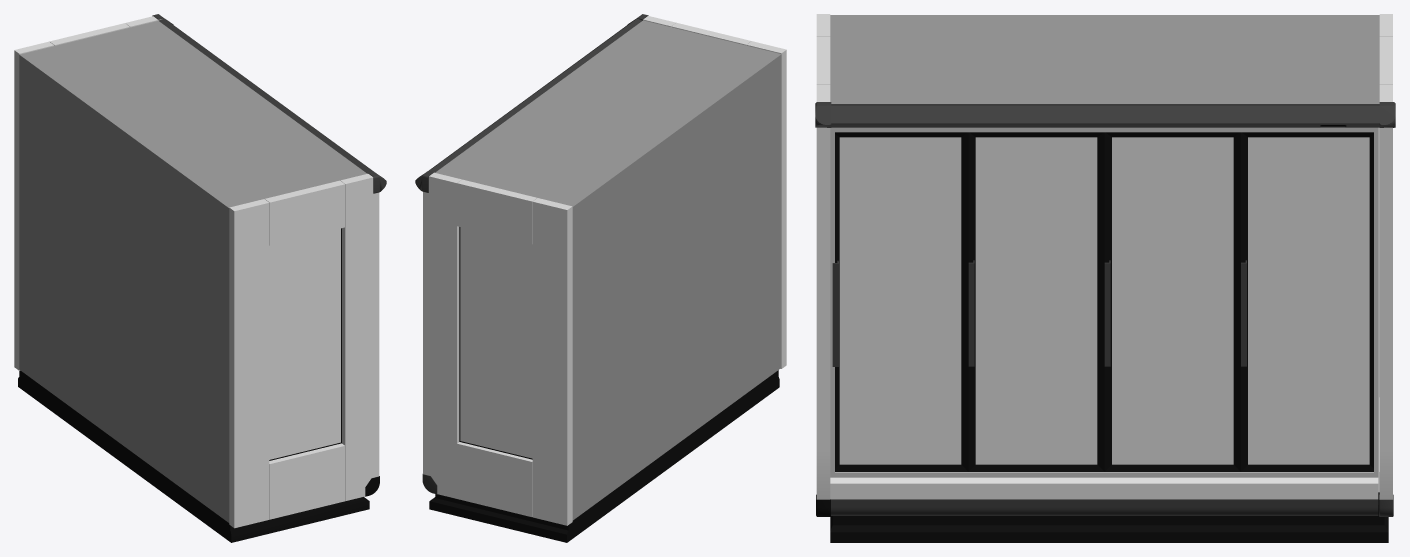
Rendered from VerticalFridge.fbx.
3 renders of one model, left to right at view 1: azimuth 30°, elevation 25°; view 2: azimuth 150°, elevation 25°; view 3: azimuth 270°, elevation 25°, orthographic. The views are drawn at different scales.
Visible parts, largest first — view 1: Fridge; view 2: Fridge; view 3: Fridge, door_2, door_3, door_1, door_4.
Boxes of the visible parts, x1,y1,x2,y2 form: Fridge: (14, 14, 386, 542); Fridge: (415, 14, 786, 542); Fridge: (815, 14, 1395, 542); door_2: (968, 132, 1104, 471); door_3: (1104, 132, 1240, 471); door_1: (832, 132, 968, 471); door_4: (1241, 132, 1373, 471).
Size of the model in its own units: 99.3 by 206 by 246.
